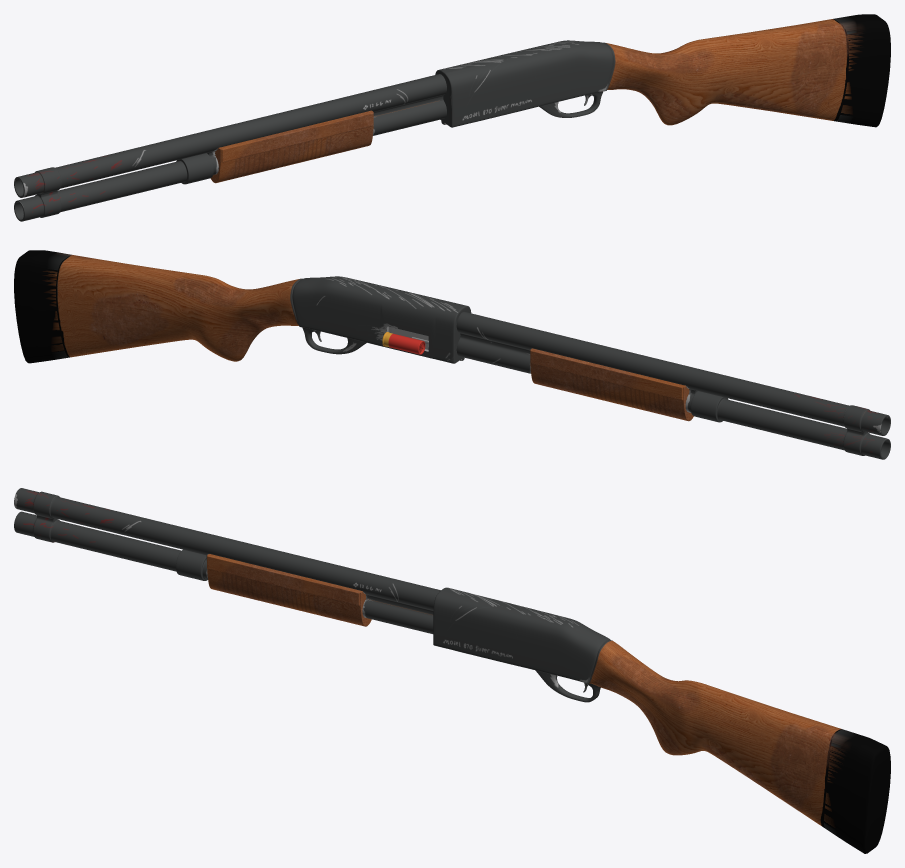
File: Shotgun.fbx
3 views of the same model, one above another, from view 1: azimuth 30°, elevation 25°; view 2: azimuth 150°, elevation 25°; view 3: azimuth 330°, elevation 25° (orthographic).
Parts seen in each view (by area): view 1: Gun, Pump; view 2: Gun, Pump, Shotgun_Shell; view 3: Gun, Pump.
Part boxes in pixels (bbox=[...]): Gun: bbox=[14, 14, 890, 221]; Pump: bbox=[210, 110, 373, 183]; Gun: bbox=[14, 250, 890, 459]; Pump: bbox=[530, 348, 693, 421]; Shotgun_Shell: bbox=[382, 332, 425, 354]; Gun: bbox=[14, 488, 890, 853]; Pump: bbox=[207, 554, 371, 626].
Bounding box in the file's own units: 0.9775 × 0.1695 × 0.0562.
Materials: 3 (3 with a texture image).
